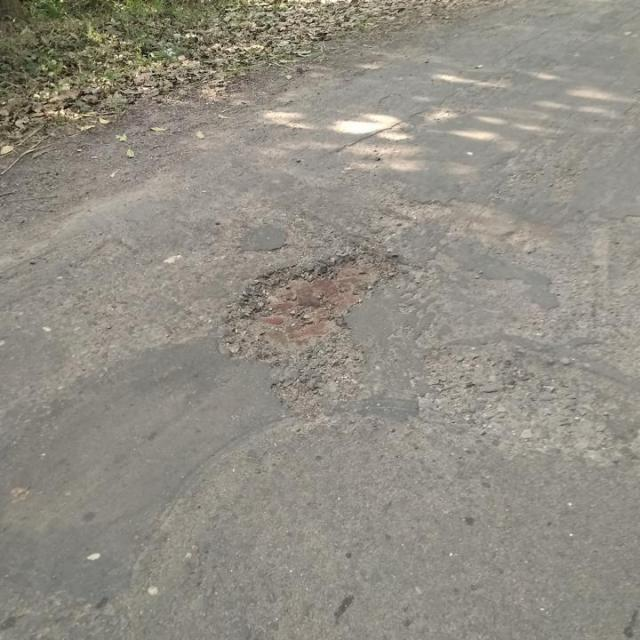pothole: (225, 247, 409, 366)
